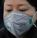with_mask: (2, 1, 37, 38)
